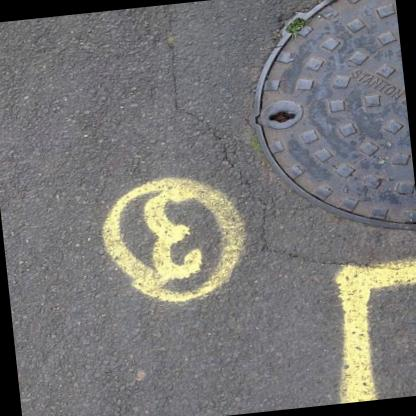manholes: (216, 0, 416, 274)
